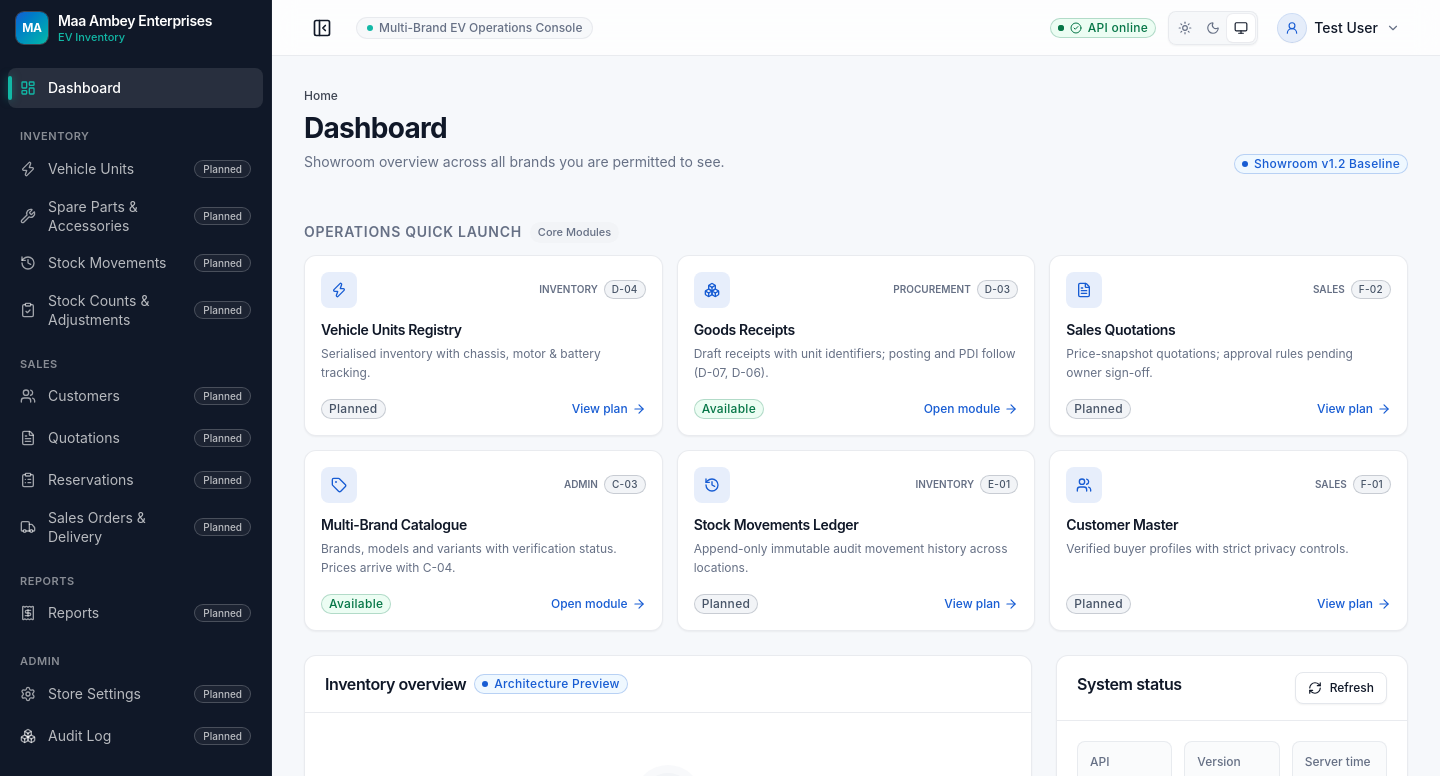
Test case: account menu › shows roles, location scope and that nothing is granted yet
This screenshot has width=1440, height=776.
Click the button with aria-label "Account: Test User": (1339, 28) [1270,10,1408,46]
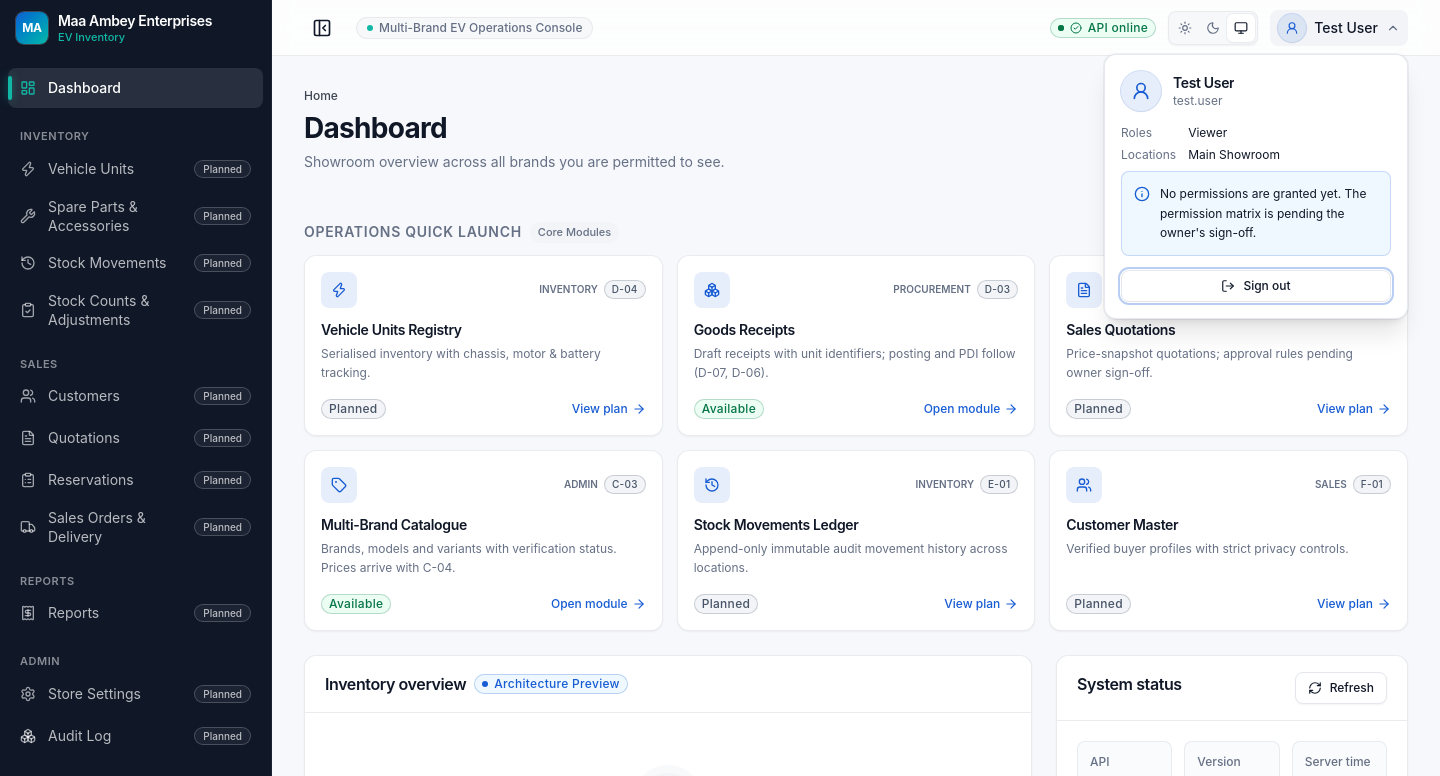
Expected: the text "Viewer" is shown, [1188,125,1227,140]
Expected: the text "Main Showroom" is shown, [1188,147,1280,162]
Expected: the text "pending the owner" is shown, [1160,186,1366,240]
